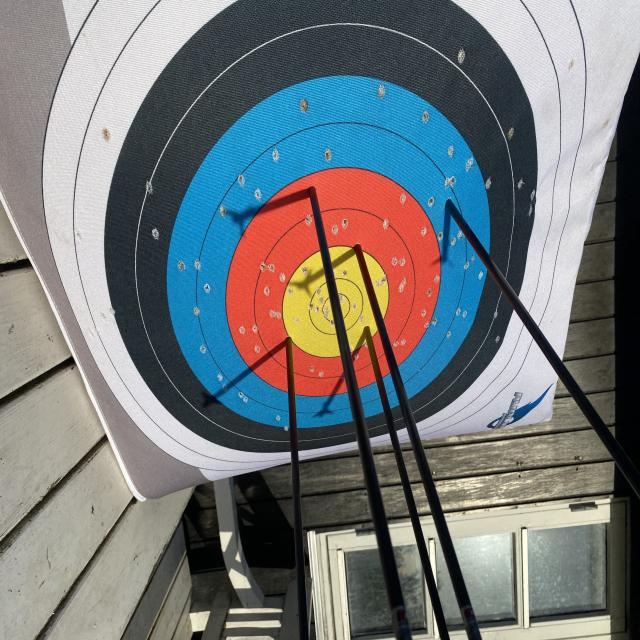Arrow_Blue: (431, 186, 472, 226)
Arrow_Red: (295, 172, 328, 212), (346, 233, 371, 269), (280, 325, 298, 360)
Arrow_Yellow: (358, 318, 375, 350)
